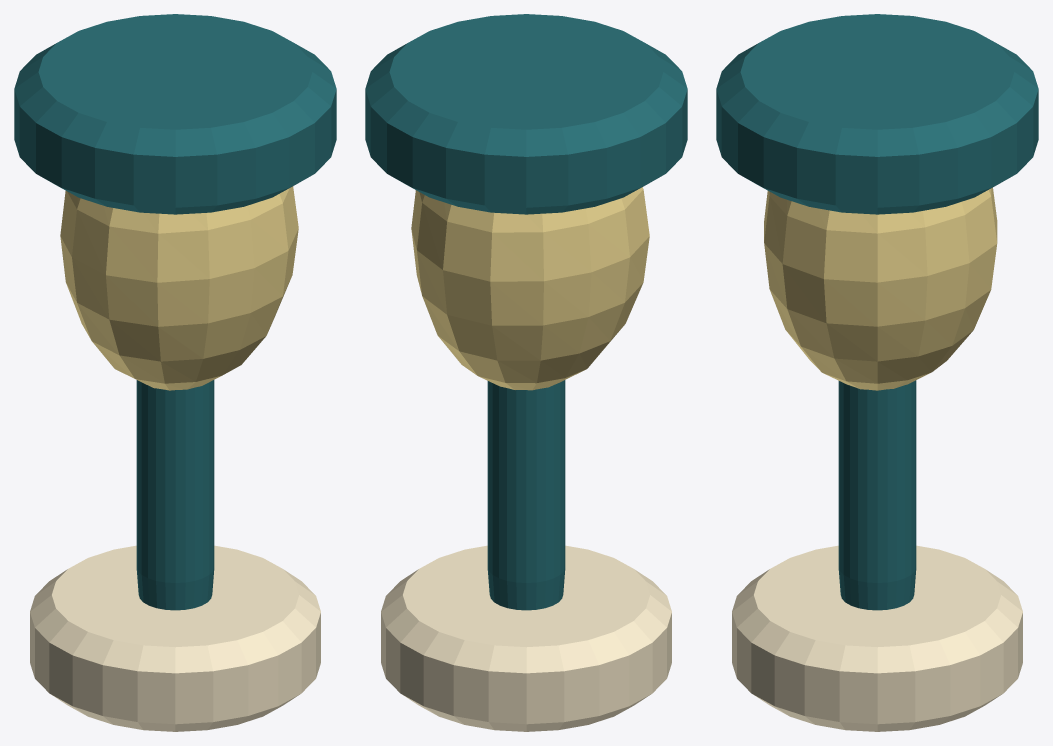
The model's file is Acorn_garden_lantern.obj.
3 views of the same model, side by side, from view 1: azimuth 30°, elevation 25°; view 2: azimuth 150°, elevation 25°; view 3: azimuth 270°, elevation 25° (orthographic).
Parts seen in each view (by area): view 1: Cap, Foot, Honey_light, Post; view 2: Cap, Foot, Honey_light, Post; view 3: Cap, Foot, Honey_light, Post.
Boxes of the visible parts, left/top/right/bottom form: Cap: left=14, top=14, right=336, bottom=214; Foot: left=30, top=545, right=320, bottom=731; Honey_light: left=60, top=186, right=298, bottom=390; Post: left=136, top=380, right=214, bottom=610; Cap: left=365, top=14, right=687, bottom=214; Foot: left=381, top=545, right=671, bottom=731; Honey_light: left=411, top=187, right=649, bottom=390; Post: left=487, top=380, right=565, bottom=610; Cap: left=716, top=14, right=1038, bottom=214; Foot: left=732, top=545, right=1022, bottom=731; Honey_light: left=764, top=187, right=997, bottom=390; Post: left=838, top=380, right=916, bottom=610.
Bounding box in the file's own units: 0.62 × 1.29 × 0.62.
